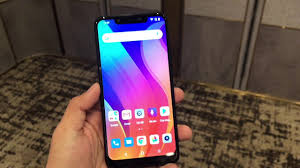vsmart: (87, 11, 180, 164)
